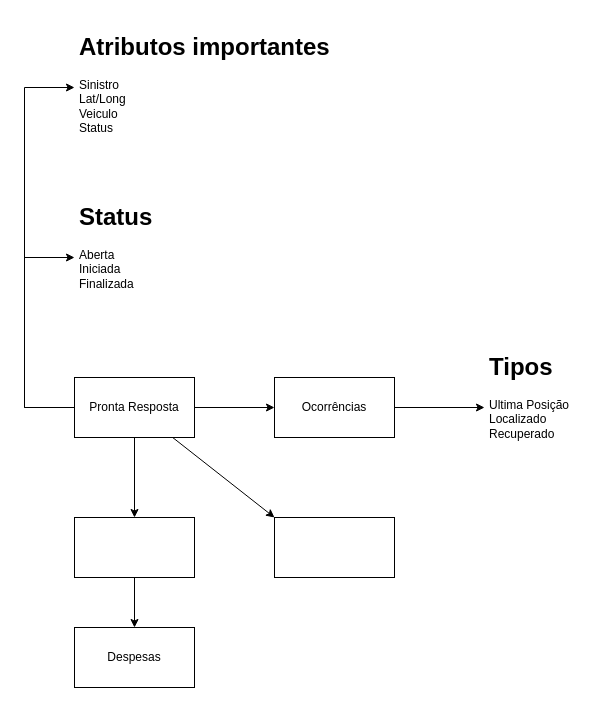
The diagram is 592 pixels wide and 705 high, and some of its shapes have lost their labels. Each missing label, with the box of its shape:
Anexos: (274, 516, 394, 578)
Prestadores/Agentes Campo: (74, 516, 194, 578)
